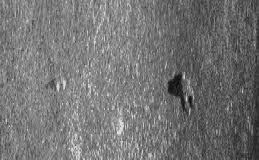man: (177, 70, 200, 116)
